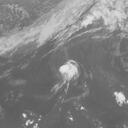cyclone: (59, 59, 80, 80)
